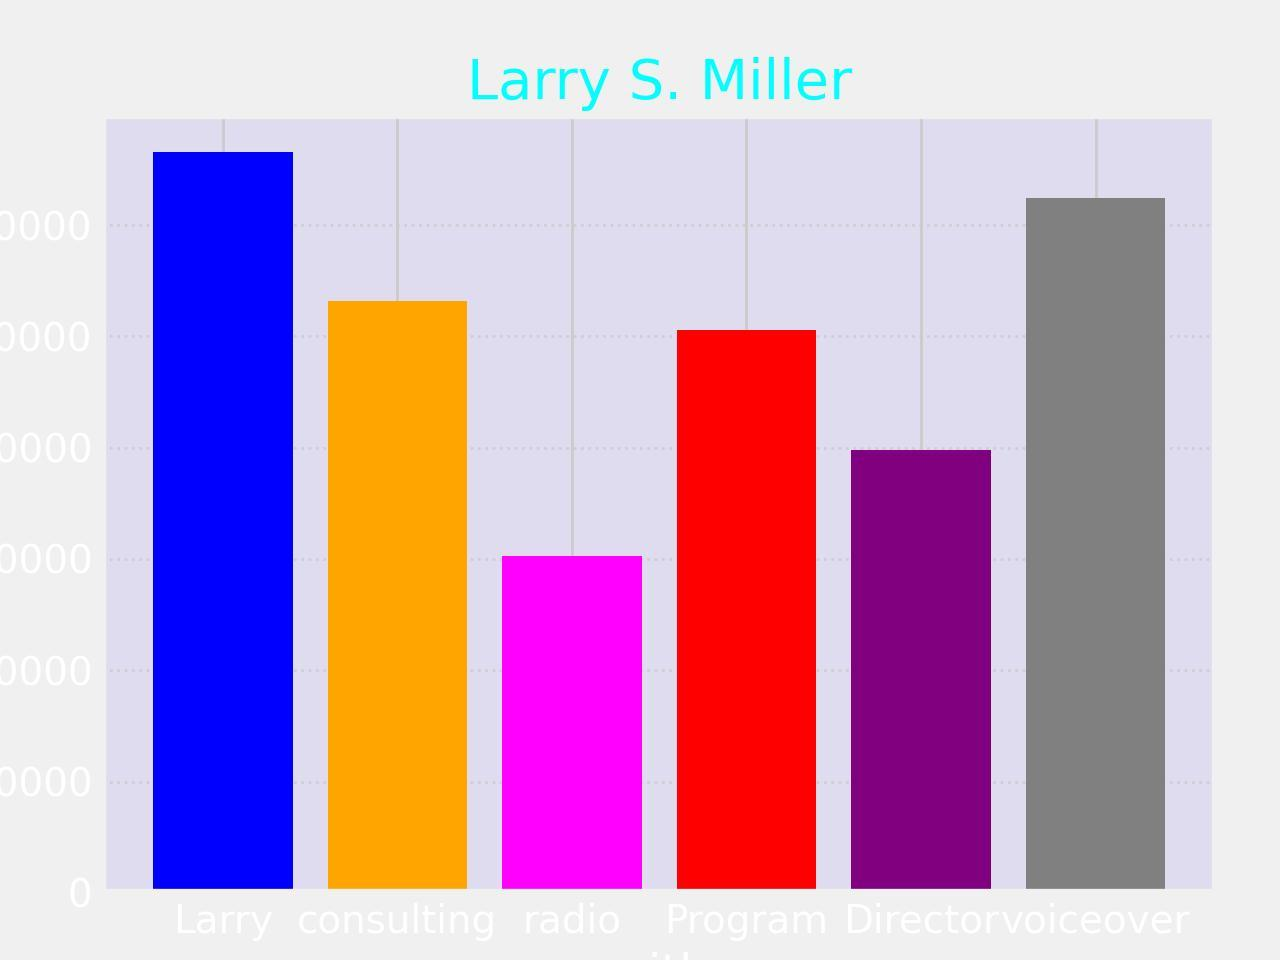axis: (0, 210, 93, 916)
rectangle: (153, 152, 293, 893), (1026, 198, 1166, 893), (328, 301, 468, 893), (676, 330, 816, 892), (851, 450, 991, 892), (502, 556, 642, 892)
